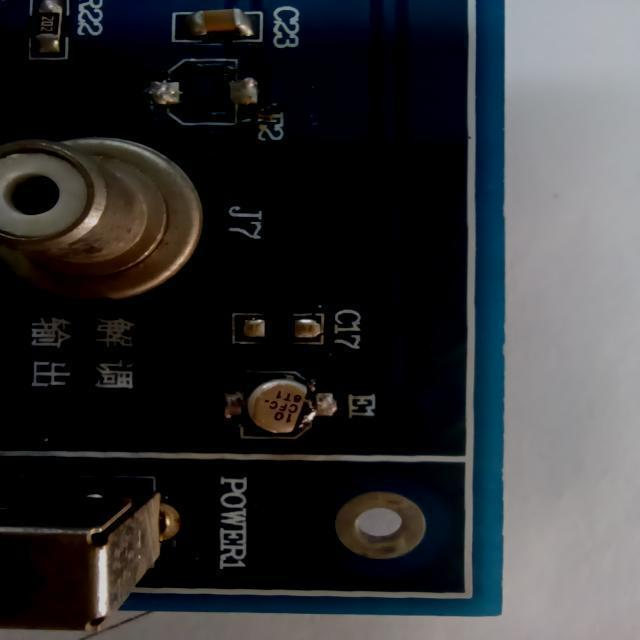Missing component: (122, 46, 296, 144), (226, 300, 364, 360)
